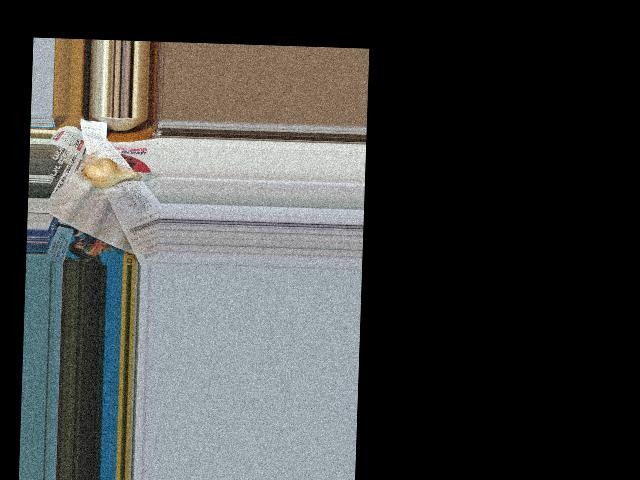onion: (81, 159, 137, 187)
